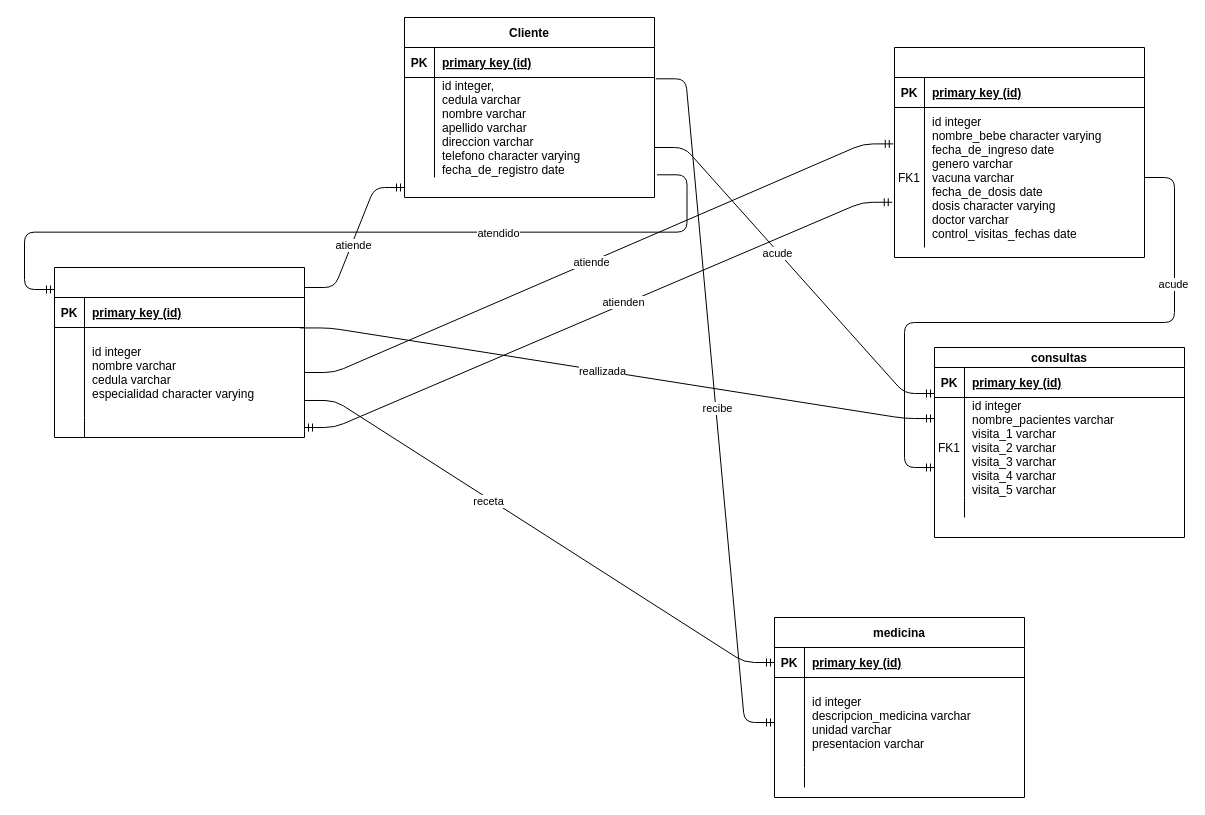
Image size: 1205x815. Some labels were removed from this diagram. Each missing label, with the box of its shape:
doctor: (54, 266, 304, 438)
prematuro: (894, 46, 1144, 258)
